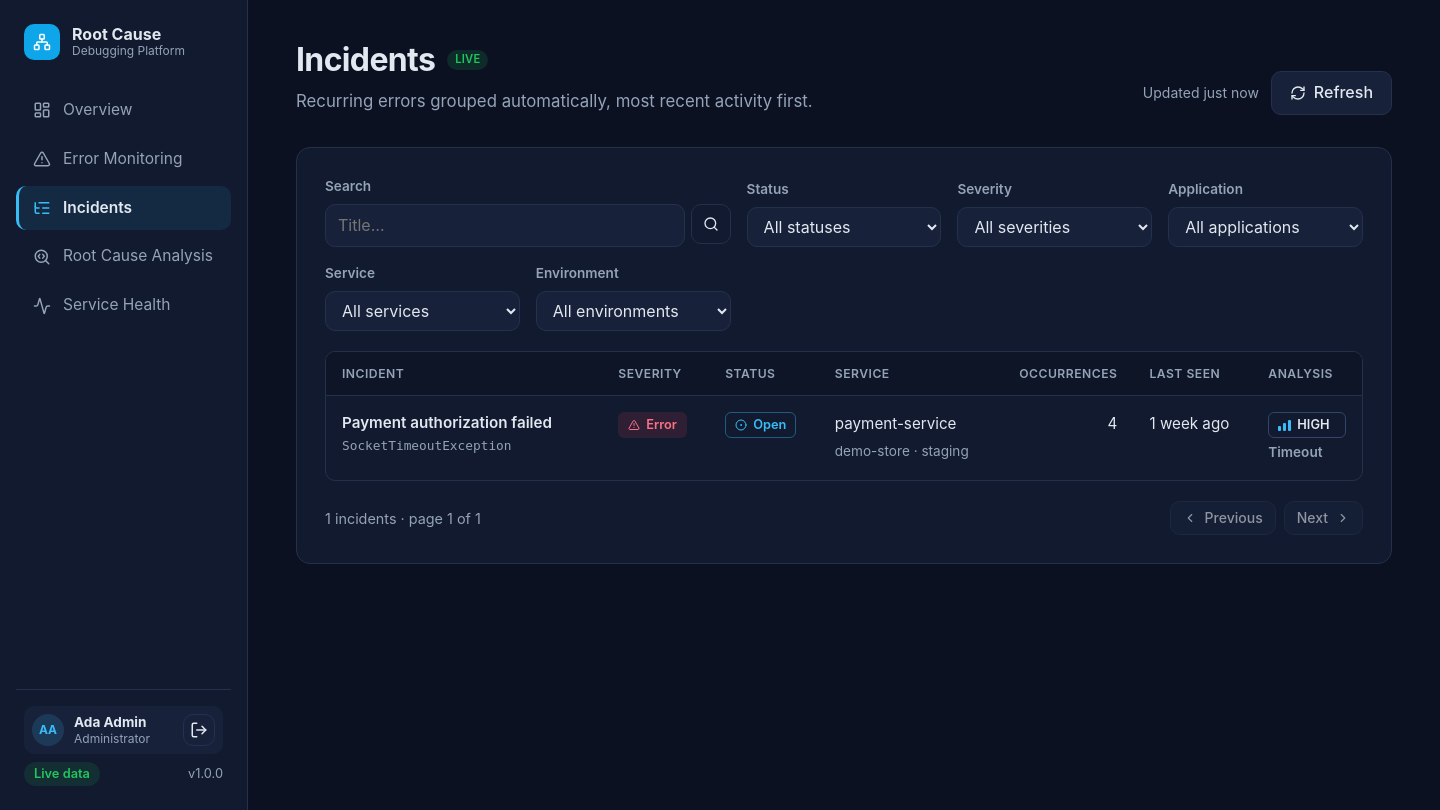
Test: signing out and expiry › signs out, clears the session and returns to the sign-in page
Expected: the heading "Incidents" is shown, top-left (296, 40), bottom-right (435, 80)
Click the button named "Sign out": click(199, 730) top-left (183, 714), bottom-right (215, 746)
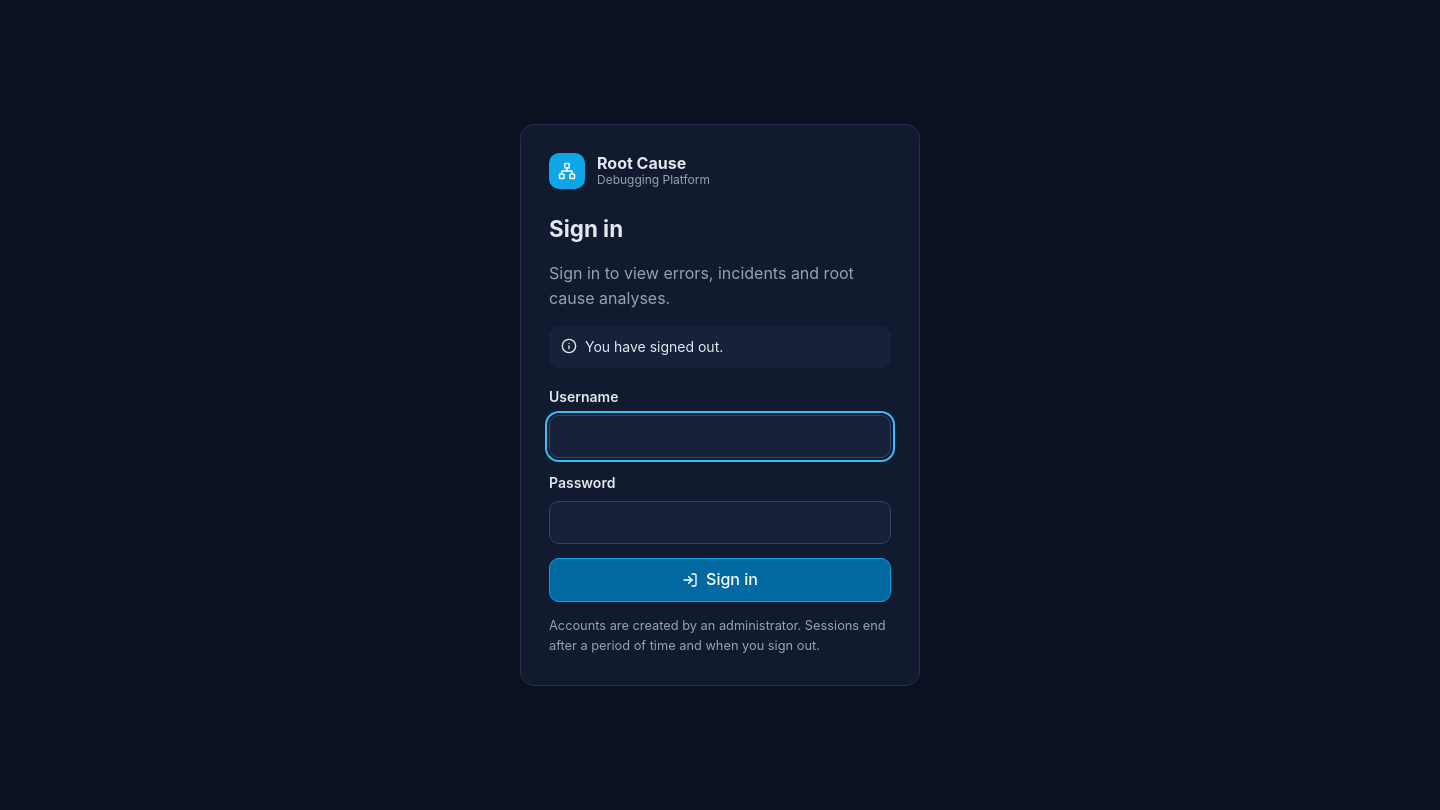
Expected: the heading "Sign in" is shown, top-left (549, 215), bottom-right (623, 242)
Expected: the message reads "You have signed out.", top-left (585, 338), bottom-right (723, 355)
